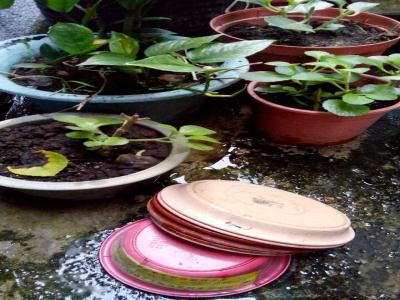plate: (143, 176, 360, 259), (96, 214, 296, 299)
